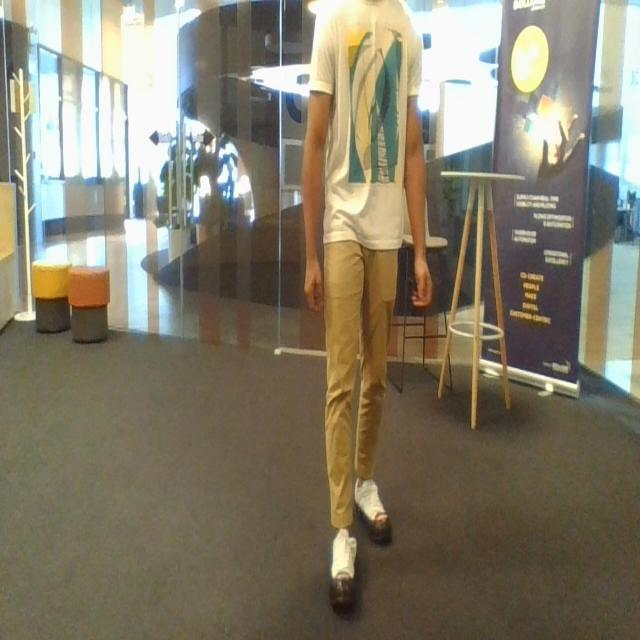shoes: (322, 520, 368, 612), (350, 468, 393, 539)
